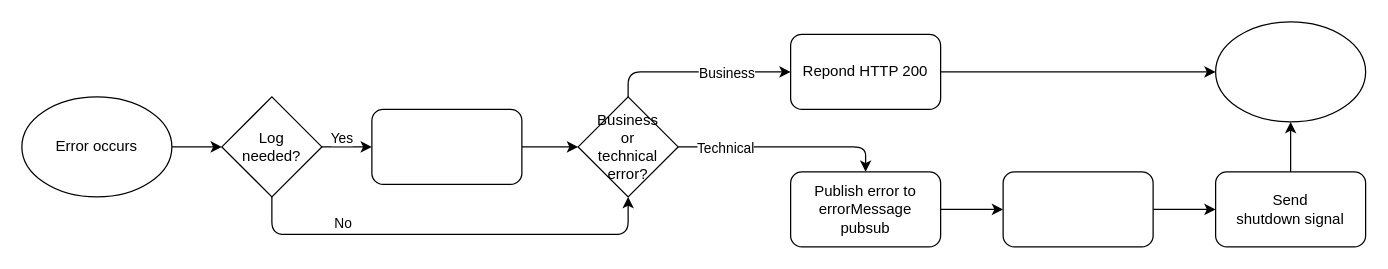
The diagram is 1388 pixels wide and 269 high, and some of its shapes have lost their labels. The shapes that lost their labels are listed below. From the top down, each one's centre as x and y in pixels, then its label:
the point at 1290,71: End
the point at 446,146: Log error
the point at 1077,209: Return HTTP 500
